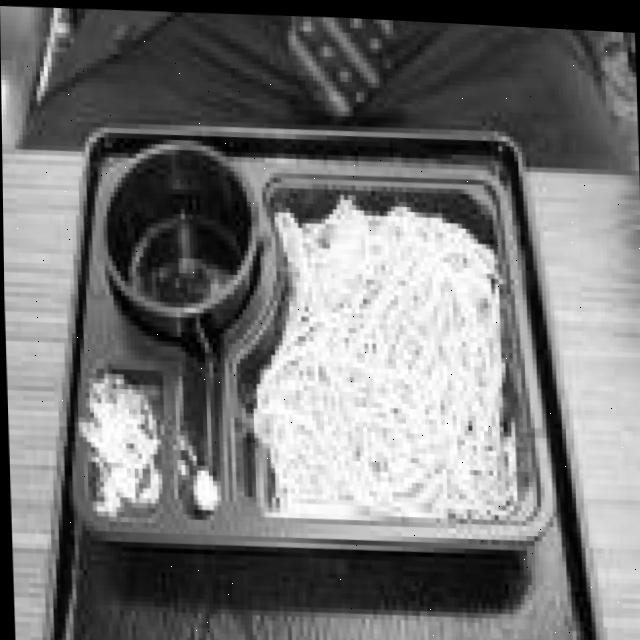面条主食: (40, 111, 548, 554)
